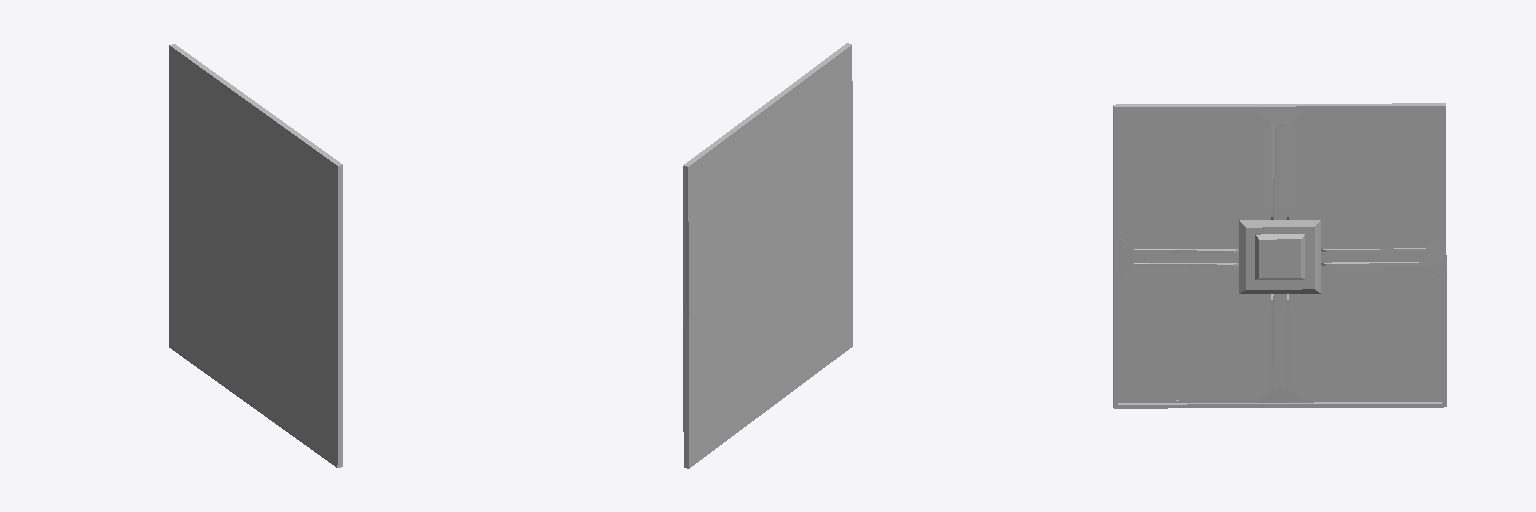
Rendered from deathStar.obj.
3 renders of one model, left to right at view 1: azimuth 30°, elevation 25°; view 2: azimuth 150°, elevation 25°; view 3: azimuth 270°, elevation 25°, orthographic.
Visible parts, largest first — view 1: Box001_Untitled; view 2: Box001_Untitled; view 3: Box001_Untitled.
Part boxes in pixels (left/top/right/bottom): Box001_Untitled: left=169, top=44, right=342, bottom=467; Box001_Untitled: left=683, top=43, right=852, bottom=468; Box001_Untitled: left=1113, top=103, right=1446, bottom=408.
Bounding box in the file's own units: 0.1511 × 5.12 × 5.12.